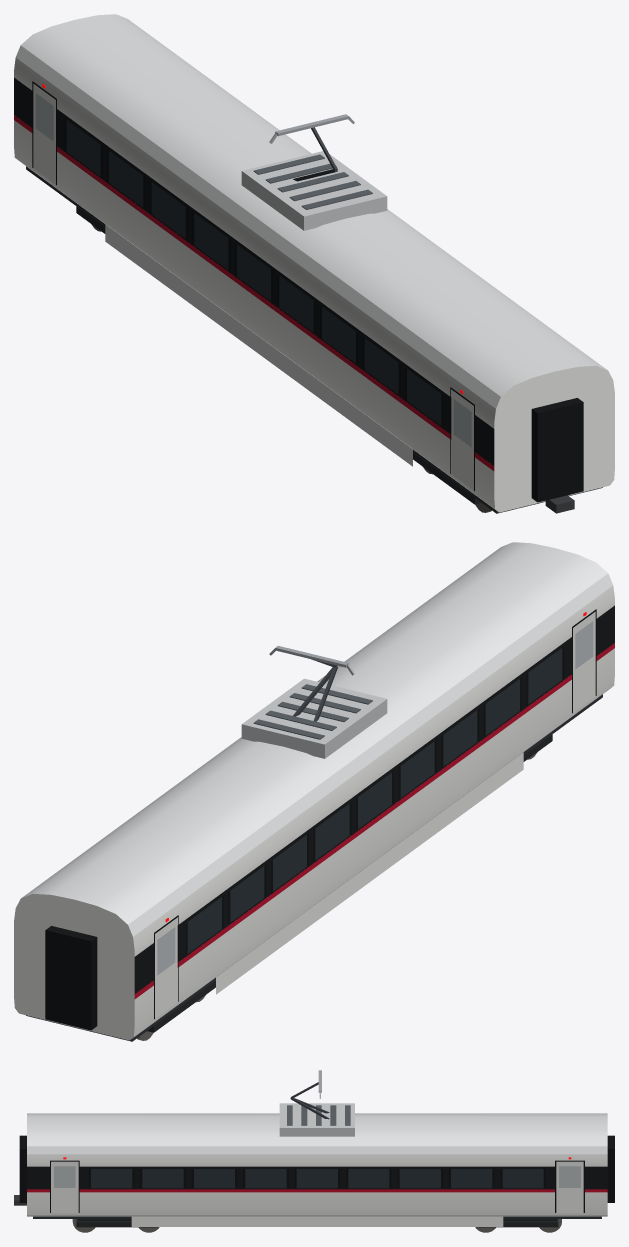
File: puyuma-middle.glb
3 views of the same model, one above another, from view 1: azimuth 30°, elevation 25°; view 2: azimuth 150°, elevation 25°; view 3: azimuth 270°, elevation 25° (orthographic). The views are drawn at different scales.
Parts seen in each view (by area): view 1: Puyuma_Middle; view 2: Puyuma_Middle; view 3: Puyuma_Middle.
Boxes of the visible parts, x1,y1,x2,y2 form: Puyuma_Middle: [14, 14, 614, 513]; Puyuma_Middle: [14, 542, 614, 1041]; Puyuma_Middle: [14, 1070, 614, 1232].
Bounding box in the file's own units: 2.98 × 5.48 × 20.7.
